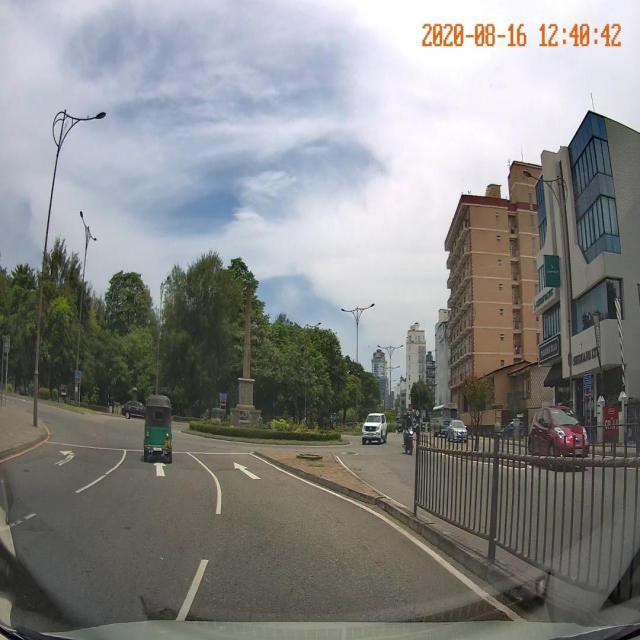Strelka vlevo: (53, 451, 75, 466)
Strelka vpered: (234, 462, 262, 480), (154, 459, 167, 476)
